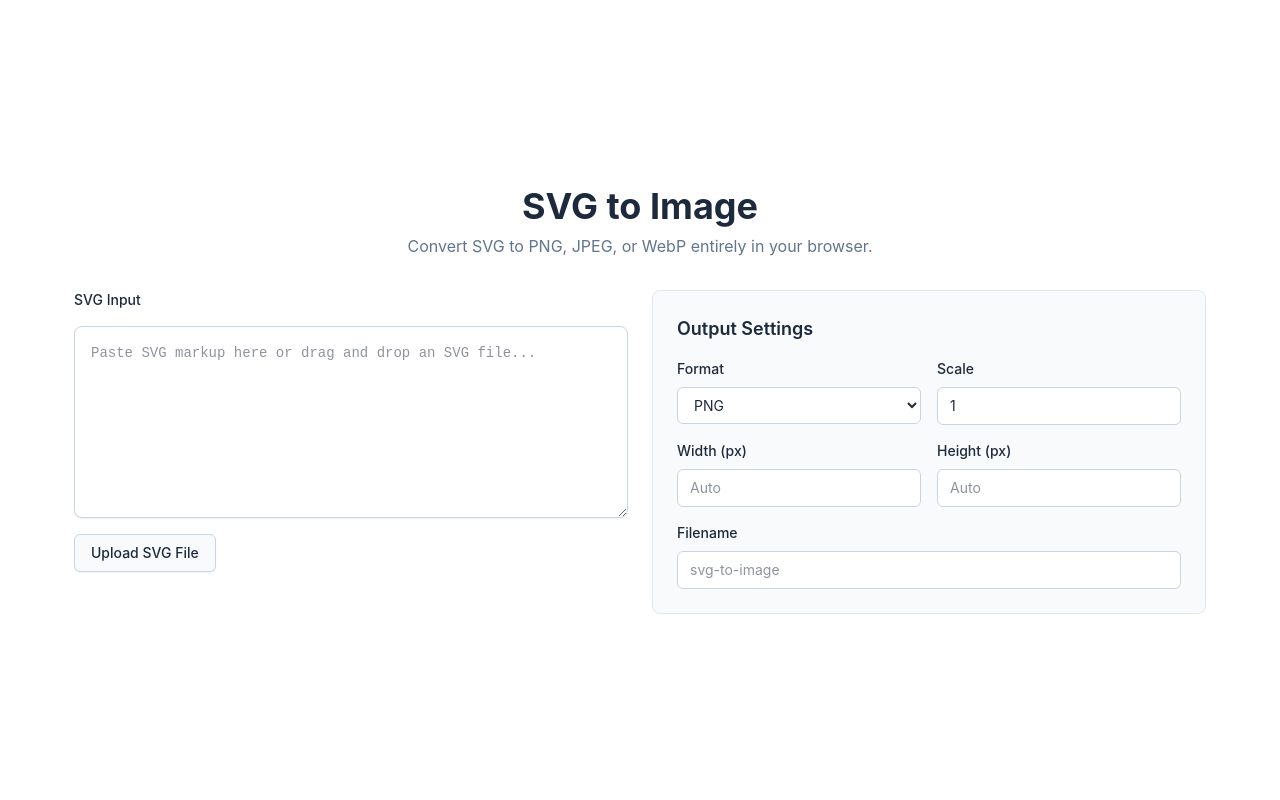
it: App component › updates dimensions and converts when svg markup is pasted
Type "<svg xmlns=\"http://www.w3.org/2000/svg\" width=\"100\" height=\"50\"><rect width=\"100\" height=\"50\" fill=\"red\"/></svg>" into the text box labelled "SVG Input" at (351, 422), box x1=74 y1=326 x2=628 y2=518
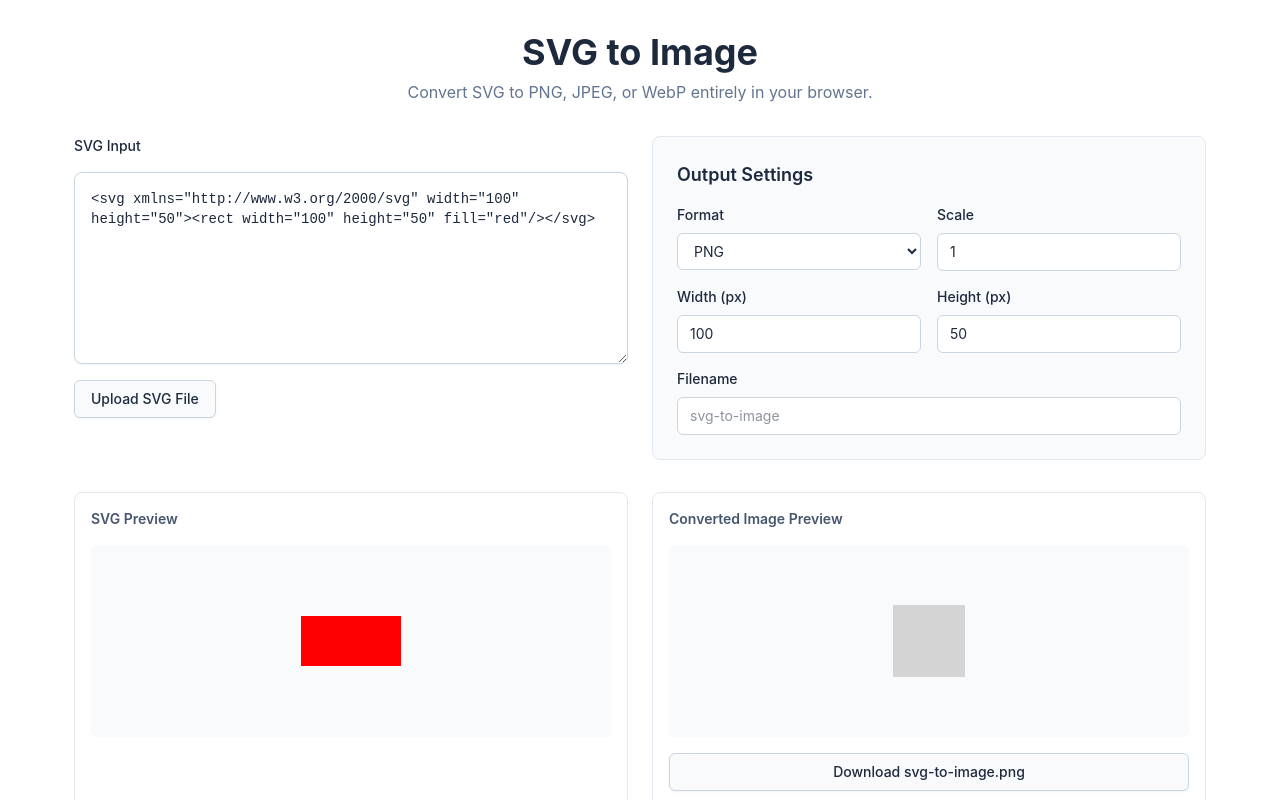
Expected: the number field labelled "Width (px)" holds "100", x1=677 y1=315 x2=921 y2=353
Expected: the number field labelled "Height (px)" holds "50", x1=937 y1=315 x2=1181 y2=353
Expected: the button "Download svg-to-image.png" is shown, x1=669 y1=753 x2=1189 y2=791
